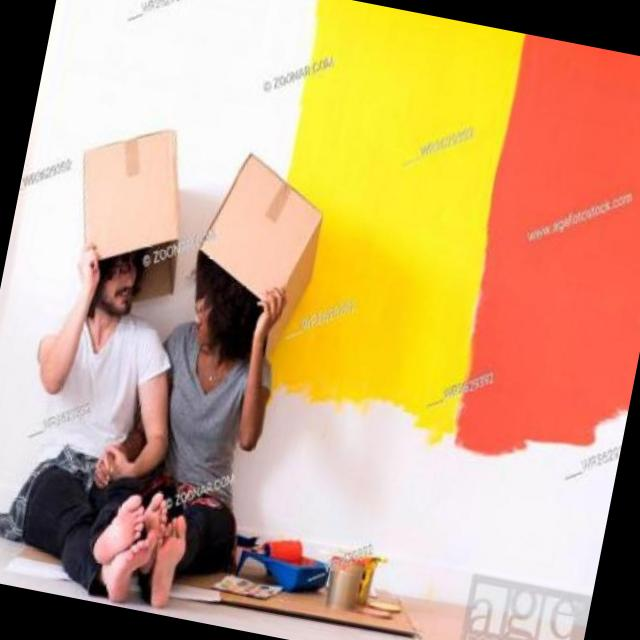box: (170, 136, 350, 386), (43, 105, 216, 326)
